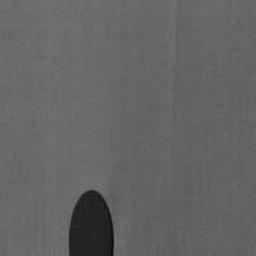Punching: (68, 189, 115, 256)
